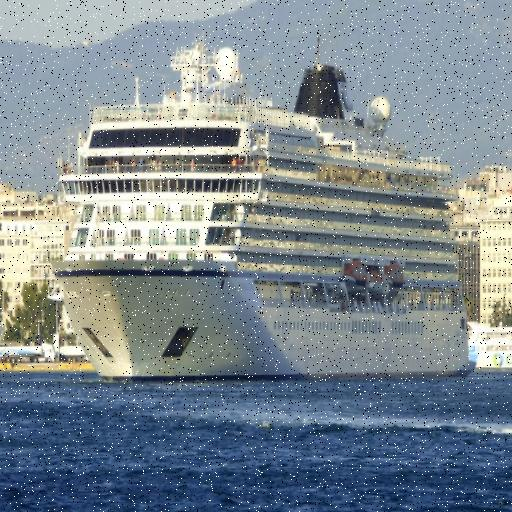cruises: (46, 26, 481, 391)
